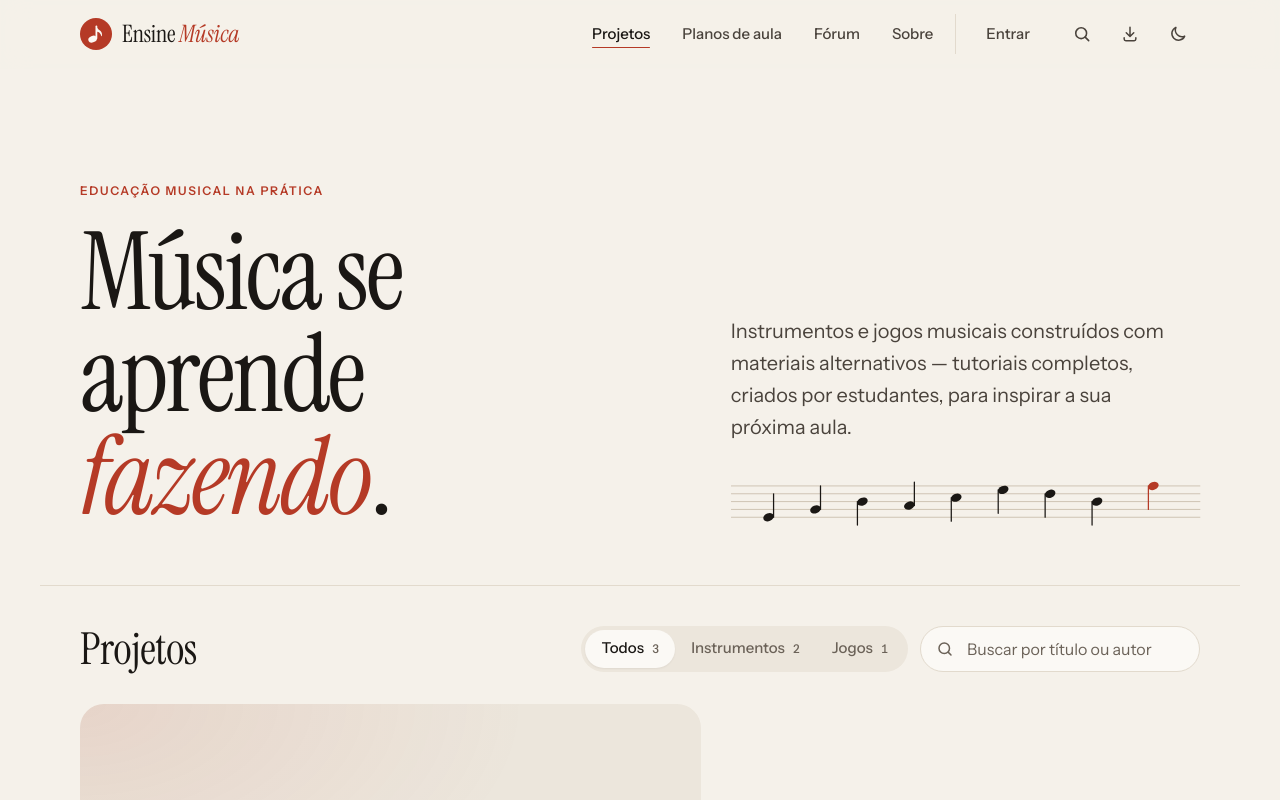
Test: página inicial › busca por título ou autor
Type "júlia" into the search field named "Buscar projetos".
click(1060, 649); type("júlia")  # box [920, 626, 1200, 672]
(page scrolled)
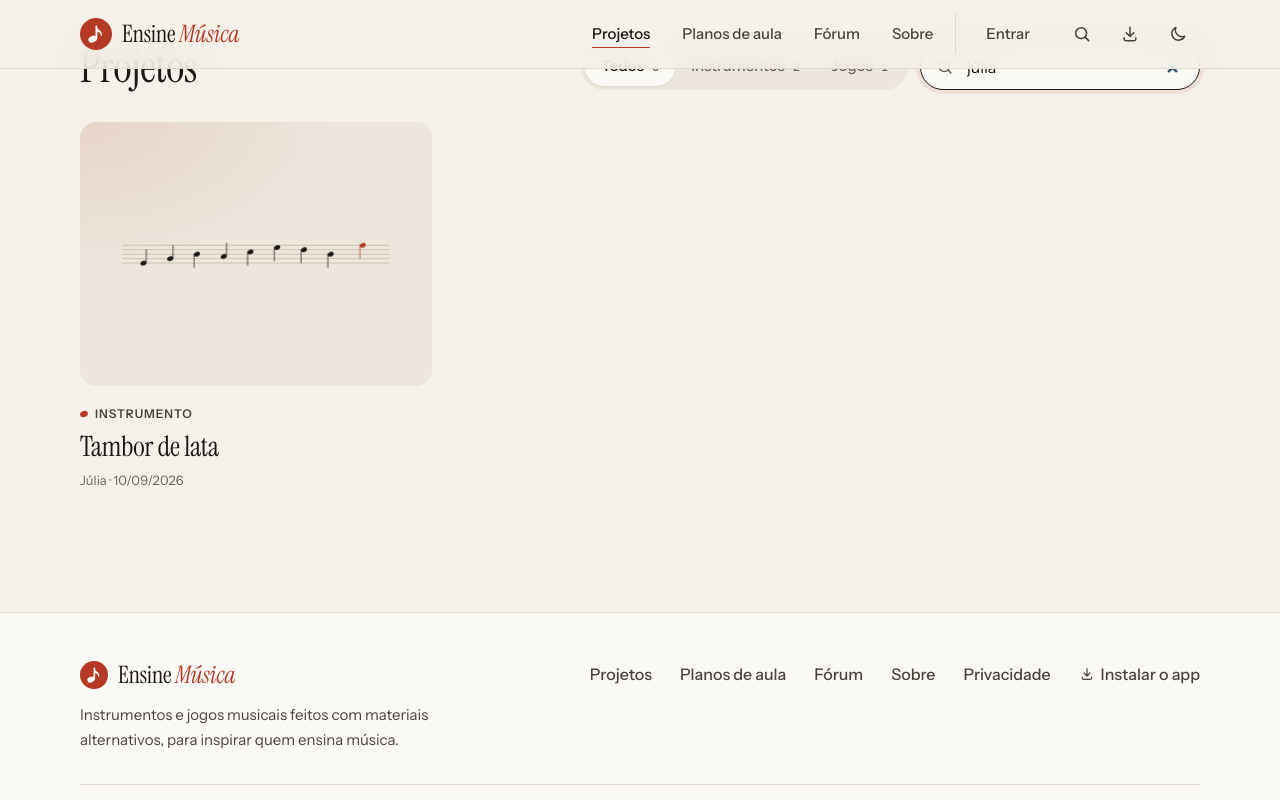
Expected: the text "Tambor de lata" is shown, [80, 428, 219, 465]
